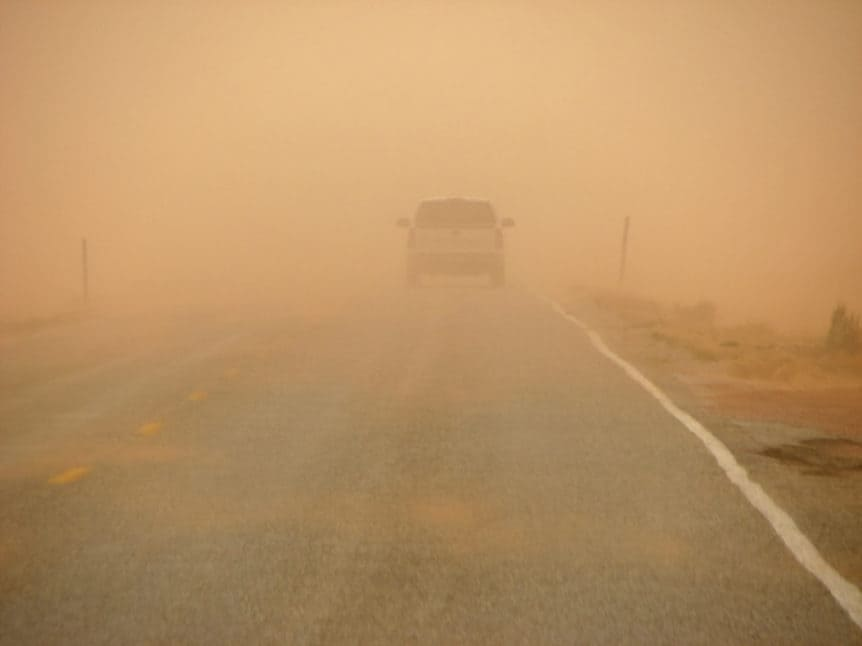car: (398, 196, 517, 288)
